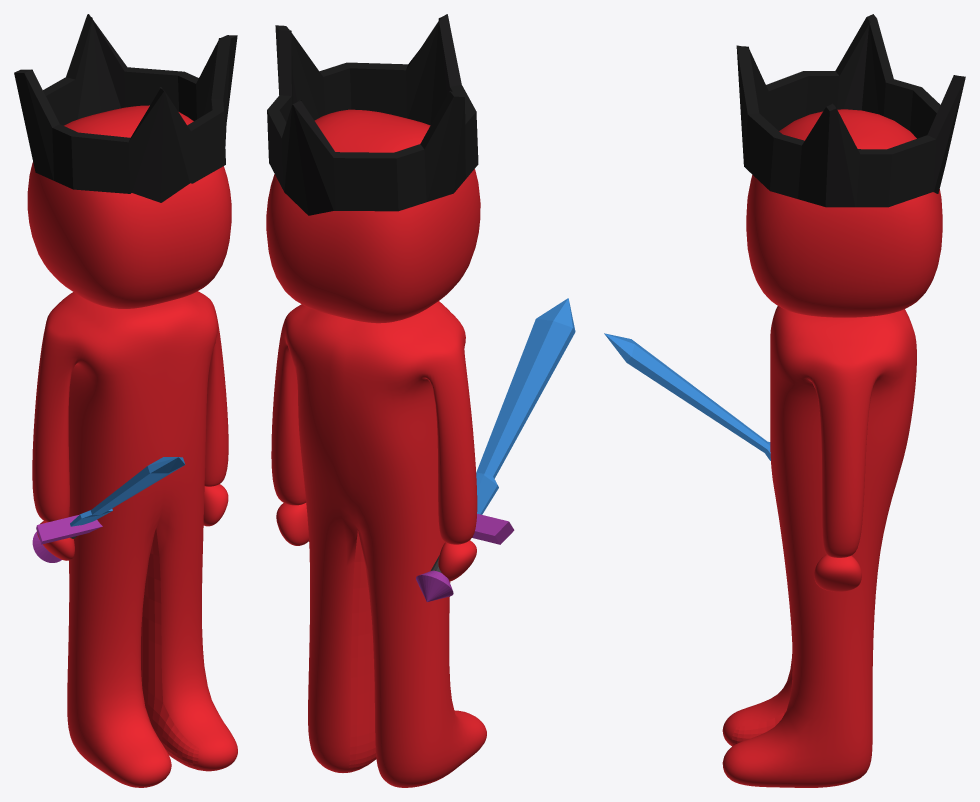
Rendered from karakter_boss.fbx.
The picture shows the model from 3 angles, left to right: view 1: azimuth 30°, elevation 25°; view 2: azimuth 150°, elevation 25°; view 3: azimuth 270°, elevation 25°; orthographic projection. The views are drawn at different scales.
Parts seen in each view (by area): view 1: Cube, Cylinder, Cube.001, Cube.002; view 2: Cube, Cylinder, Cube.001, Cube.002; view 3: Cube, Cylinder, Cube.001.
Part boxes in pixels (<box>): Cube: <box>27,105,237,787</box>; Cylinder: <box>14,14,237,202</box>; Cube.001: <box>70,457,185,526</box>; Cube.002: <box>32,514,102,562</box>; Cube: <box>266,109,486,787</box>; Cylinder: <box>267,14,478,215</box>; Cube.001: <box>476,298,575,514</box>; Cube.002: <box>416,513,514,601</box>; Cube: <box>722,109,942,787</box>; Cylinder: <box>736,14,965,207</box>; Cube.001: <box>604,333,770,460</box>.
Size of the model in its own units: 542 by 1700 by 784.
